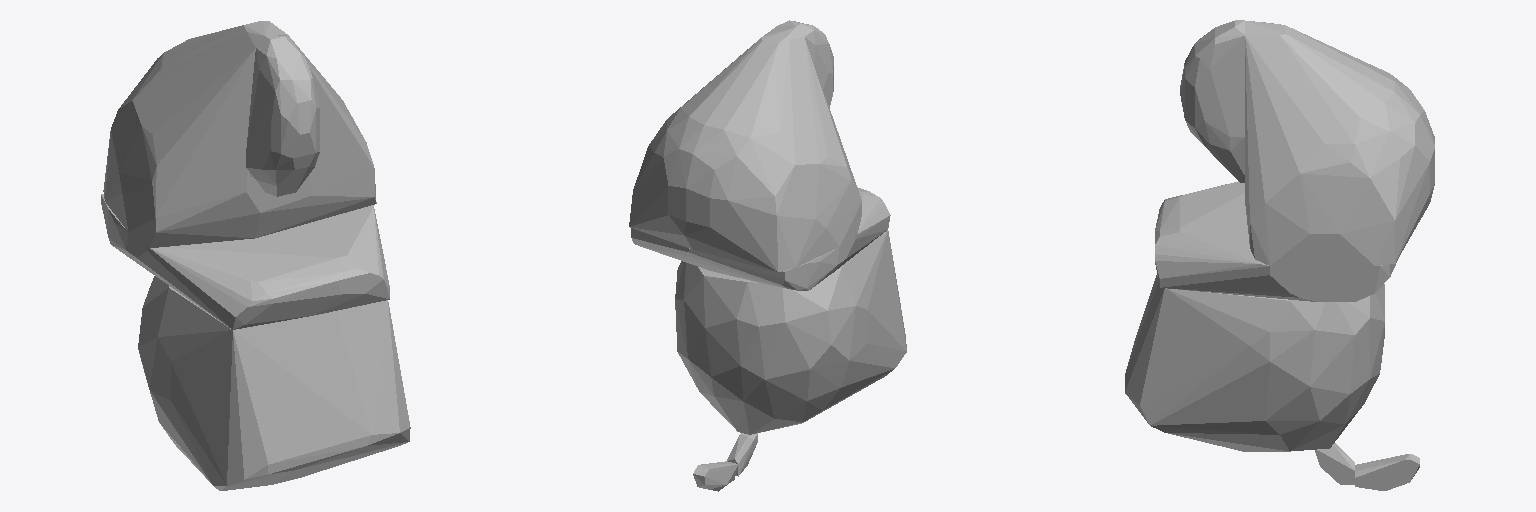
URDF robot description (root):
<robot name="root">
  <link name="link_f1e8ae2e0e14d951c0c0e5cf6aa955c_convex_piece_0">
    <inertial>
      <origin rpy="0 0 0" xyz="0 0 0"/>
      <mass value="1.83E-05"/>
      <inertia ixx="6.11E-09" ixy="7.69E-11" ixz="2.27E-10" iyy="5.55E-09" iyz="8.85E-10" izz="2.77E-09"/>
    </inertial>
    <visual>
      <origin rpy="0 0 0" xyz="0 0 0"/>
      <geometry>
        <mesh filename="f1e8ae2e0e14d951c0c0e5cf6aa955c_convex_piece_0.obj" scale="1.0000E+00"/>
      </geometry>
      <material name="">
        <color rgba="7.50E-01 7.50E-01 7.50E-01 1"/>
      </material>
    </visual>
    <collision>
      <origin rpy="0 0 0" xyz="0 0 0"/>
      <geometry>
        <mesh filename="f1e8ae2e0e14d951c0c0e5cf6aa955c_convex_piece_0.obj" scale="1.0000E+00"/>
      </geometry>
    </collision>
  </link>
  <link name="link_f1e8ae2e0e14d951c0c0e5cf6aa955c_convex_piece_1">
    <inertial>
      <origin rpy="0 0 0" xyz="0 0 0"/>
      <mass value="5.18E-06"/>
      <inertia ixx="5.28E-10" ixy="1.79E-12" ixz="-4.78E-12" iyy="4.58E-10" iyz="3.15E-11" izz="8.68E-10"/>
    </inertial>
    <visual>
      <origin rpy="0 0 0" xyz="0 0 0"/>
      <geometry>
        <mesh filename="f1e8ae2e0e14d951c0c0e5cf6aa955c_convex_piece_1.obj" scale="1.0000E+00"/>
      </geometry>
      <material name="">
        <color rgba="7.50E-01 7.50E-01 7.50E-01 1"/>
      </material>
    </visual>
    <collision>
      <origin rpy="0 0 0" xyz="0 0 0"/>
      <geometry>
        <mesh filename="f1e8ae2e0e14d951c0c0e5cf6aa955c_convex_piece_1.obj" scale="1.0000E+00"/>
      </geometry>
    </collision>
  </link>
  <joint name="link_f1e8ae2e0e14d951c0c0e5cf6aa955c_convex_piece_1_joint" type="fixed">
    <origin rpy="0 0 0" xyz="0 0 0"/>
    <parent link="link_f1e8ae2e0e14d951c0c0e5cf6aa955c_convex_piece_0"/>
    <child link="link_f1e8ae2e0e14d951c0c0e5cf6aa955c_convex_piece_1"/>
  </joint>
  <link name="link_f1e8ae2e0e14d951c0c0e5cf6aa955c_convex_piece_2">
    <inertial>
      <origin rpy="0 0 0" xyz="0 0 0"/>
      <mass value="4.34E-08"/>
      <inertia ixx="5.18E-11" ixy="4.70E-14" ixz="-1.16E-13" iyy="4.88E-11" iyz="-1.21E-11" izz="3.04E-12"/>
    </inertial>
    <visual>
      <origin rpy="0 0 0" xyz="0 0 0"/>
      <geometry>
        <mesh filename="f1e8ae2e0e14d951c0c0e5cf6aa955c_convex_piece_2.obj" scale="1.0000E+00"/>
      </geometry>
      <material name="">
        <color rgba="7.50E-01 7.50E-01 7.50E-01 1"/>
      </material>
    </visual>
    <collision>
      <origin rpy="0 0 0" xyz="0 0 0"/>
      <geometry>
        <mesh filename="f1e8ae2e0e14d951c0c0e5cf6aa955c_convex_piece_2.obj" scale="1.0000E+00"/>
      </geometry>
    </collision>
  </link>
  <joint name="link_f1e8ae2e0e14d951c0c0e5cf6aa955c_convex_piece_2_joint" type="fixed">
    <origin rpy="0 0 0" xyz="0 0 0"/>
    <parent link="link_f1e8ae2e0e14d951c0c0e5cf6aa955c_convex_piece_1"/>
    <child link="link_f1e8ae2e0e14d951c0c0e5cf6aa955c_convex_piece_2"/>
  </joint>
  <link name="link_f1e8ae2e0e14d951c0c0e5cf6aa955c_convex_piece_3">
    <inertial>
      <origin rpy="0 0 0" xyz="0 0 0"/>
      <mass value="6.89E-08"/>
      <inertia ixx="1.02E-10" ixy="8.94E-13" ixz="-1.91E-12" iyy="8.45E-11" iyz="-3.79E-11" izz="1.76E-11"/>
    </inertial>
    <visual>
      <origin rpy="0 0 0" xyz="0 0 0"/>
      <geometry>
        <mesh filename="f1e8ae2e0e14d951c0c0e5cf6aa955c_convex_piece_3.obj" scale="1.0000E+00"/>
      </geometry>
      <material name="">
        <color rgba="7.50E-01 7.50E-01 7.50E-01 1"/>
      </material>
    </visual>
    <collision>
      <origin rpy="0 0 0" xyz="0 0 0"/>
      <geometry>
        <mesh filename="f1e8ae2e0e14d951c0c0e5cf6aa955c_convex_piece_3.obj" scale="1.0000E+00"/>
      </geometry>
    </collision>
  </link>
  <joint name="link_f1e8ae2e0e14d951c0c0e5cf6aa955c_convex_piece_3_joint" type="fixed">
    <origin rpy="0 0 0" xyz="0 0 0"/>
    <parent link="link_f1e8ae2e0e14d951c0c0e5cf6aa955c_convex_piece_2"/>
    <child link="link_f1e8ae2e0e14d951c0c0e5cf6aa955c_convex_piece_3"/>
  </joint>
  <link name="link_f1e8ae2e0e14d951c0c0e5cf6aa955c_convex_piece_4">
    <inertial>
      <origin rpy="0 0 0" xyz="0 0 0"/>
      <mass value="8.95E-07"/>
      <inertia ixx="6.83E-10" ixy="9.83E-12" ixz="-2.75E-11" iyy="6.14E-10" iyz="-2.02E-10" izz="7.91E-11"/>
    </inertial>
    <visual>
      <origin rpy="0 0 0" xyz="0 0 0"/>
      <geometry>
        <mesh filename="f1e8ae2e0e14d951c0c0e5cf6aa955c_convex_piece_4.obj" scale="1.0000E+00"/>
      </geometry>
      <material name="">
        <color rgba="7.50E-01 7.50E-01 7.50E-01 1"/>
      </material>
    </visual>
    <collision>
      <origin rpy="0 0 0" xyz="0 0 0"/>
      <geometry>
        <mesh filename="f1e8ae2e0e14d951c0c0e5cf6aa955c_convex_piece_4.obj" scale="1.0000E+00"/>
      </geometry>
    </collision>
  </link>
  <joint name="link_f1e8ae2e0e14d951c0c0e5cf6aa955c_convex_piece_4_joint" type="fixed">
    <origin rpy="0 0 0" xyz="0 0 0"/>
    <parent link="link_f1e8ae2e0e14d951c0c0e5cf6aa955c_convex_piece_3"/>
    <child link="link_f1e8ae2e0e14d951c0c0e5cf6aa955c_convex_piece_4"/>
  </joint>
  <link name="link_f1e8ae2e0e14d951c0c0e5cf6aa955c_convex_piece_5">
    <inertial>
      <origin rpy="0 0 0" xyz="0 0 0"/>
      <mass value="1.26E-05"/>
      <inertia ixx="5.70E-09" ixy="1.08E-11" ixz="2.43E-11" iyy="5.16E-09" iyz="1.53E-09" izz="2.11E-09"/>
    </inertial>
    <visual>
      <origin rpy="0 0 0" xyz="0 0 0"/>
      <geometry>
        <mesh filename="f1e8ae2e0e14d951c0c0e5cf6aa955c_convex_piece_5.obj" scale="1.0000E+00"/>
      </geometry>
      <material name="">
        <color rgba="7.50E-01 7.50E-01 7.50E-01 1"/>
      </material>
    </visual>
    <collision>
      <origin rpy="0 0 0" xyz="0 0 0"/>
      <geometry>
        <mesh filename="f1e8ae2e0e14d951c0c0e5cf6aa955c_convex_piece_5.obj" scale="1.0000E+00"/>
      </geometry>
    </collision>
  </link>
  <joint name="link_f1e8ae2e0e14d951c0c0e5cf6aa955c_convex_piece_5_joint" type="fixed">
    <origin rpy="0 0 0" xyz="0 0 0"/>
    <parent link="link_f1e8ae2e0e14d951c0c0e5cf6aa955c_convex_piece_4"/>
    <child link="link_f1e8ae2e0e14d951c0c0e5cf6aa955c_convex_piece_5"/>
  </joint>
</robot>

--- Render facts (derived) ---
3 views of the same robot in one strip: view 1: azimuth 30°, elevation 25°; view 2: azimuth 150°, elevation 25°; view 3: azimuth 270°, elevation 25° (orthographic).
Robot: root — 6 links, 5 joints (5 fixed); root link link_f1e8ae2e0e14d951c0c0e5cf6aa955c_convex_piece_0; default pose: all joints at 0.
Visible links, largest first — view 1: link_f1e8ae2e0e14d951c0c0e5cf6aa955c_convex_piece_0, link_f1e8ae2e0e14d951c0c0e5cf6aa955c_convex_piece_5, link_f1e8ae2e0e14d951c0c0e5cf6aa955c_convex_piece_1, link_f1e8ae2e0e14d951c0c0e5cf6aa955c_convex_piece_4; view 2: link_f1e8ae2e0e14d951c0c0e5cf6aa955c_convex_piece_5, link_f1e8ae2e0e14d951c0c0e5cf6aa955c_convex_piece_0, link_f1e8ae2e0e14d951c0c0e5cf6aa955c_convex_piece_1, link_f1e8ae2e0e14d951c0c0e5cf6aa955c_convex_piece_4, link_f1e8ae2e0e14d951c0c0e5cf6aa955c_convex_piece_3, link_f1e8ae2e0e14d951c0c0e5cf6aa955c_convex_piece_2; view 3: link_f1e8ae2e0e14d951c0c0e5cf6aa955c_convex_piece_5, link_f1e8ae2e0e14d951c0c0e5cf6aa955c_convex_piece_0, link_f1e8ae2e0e14d951c0c0e5cf6aa955c_convex_piece_1, link_f1e8ae2e0e14d951c0c0e5cf6aa955c_convex_piece_4, link_f1e8ae2e0e14d951c0c0e5cf6aa955c_convex_piece_3, link_f1e8ae2e0e14d951c0c0e5cf6aa955c_convex_piece_2.
Link boxes in pixels (x1=…): link_f1e8ae2e0e14d951c0c0e5cf6aa955c_convex_piece_0: x1=138, y1=276, x2=410, y2=490; link_f1e8ae2e0e14d951c0c0e5cf6aa955c_convex_piece_5: x1=103, y1=21, x2=376, y2=247; link_f1e8ae2e0e14d951c0c0e5cf6aa955c_convex_piece_1: x1=101, y1=194, x2=389, y2=329; link_f1e8ae2e0e14d951c0c0e5cf6aa955c_convex_piece_4: x1=246, y1=35, x2=319, y2=196; link_f1e8ae2e0e14d951c0c0e5cf6aa955c_convex_piece_5: x1=629, y1=26, x2=861, y2=271; link_f1e8ae2e0e14d951c0c0e5cf6aa955c_convex_piece_0: x1=675, y1=230, x2=906, y2=434; link_f1e8ae2e0e14d951c0c0e5cf6aa955c_convex_piece_1: x1=631, y1=187, x2=890, y2=290; link_f1e8ae2e0e14d951c0c0e5cf6aa955c_convex_piece_4: x1=778, y1=20, x2=833, y2=107; link_f1e8ae2e0e14d951c0c0e5cf6aa955c_convex_piece_3: x1=693, y1=461, x2=737, y2=491; link_f1e8ae2e0e14d951c0c0e5cf6aa955c_convex_piece_2: x1=727, y1=433, x2=757, y2=476; link_f1e8ae2e0e14d951c0c0e5cf6aa955c_convex_piece_5: x1=1245, y1=21, x2=1434, y2=265; link_f1e8ae2e0e14d951c0c0e5cf6aa955c_convex_piece_0: x1=1125, y1=275, x2=1384, y2=451; link_f1e8ae2e0e14d951c0c0e5cf6aa955c_convex_piece_1: x1=1155, y1=181, x2=1399, y2=301; link_f1e8ae2e0e14d951c0c0e5cf6aa955c_convex_piece_4: x1=1180, y1=20, x2=1244, y2=182; link_f1e8ae2e0e14d951c0c0e5cf6aa955c_convex_piece_3: x1=1355, y1=454, x2=1419, y2=490; link_f1e8ae2e0e14d951c0c0e5cf6aa955c_convex_piece_2: x1=1315, y1=443, x2=1354, y2=484.
Size in the robot's own frame: 0.034 by 0.0459 by 0.0747 metres.
Meshes: 6 distinct files referenced, 6 mesh visuals loaded (6 OBJ).